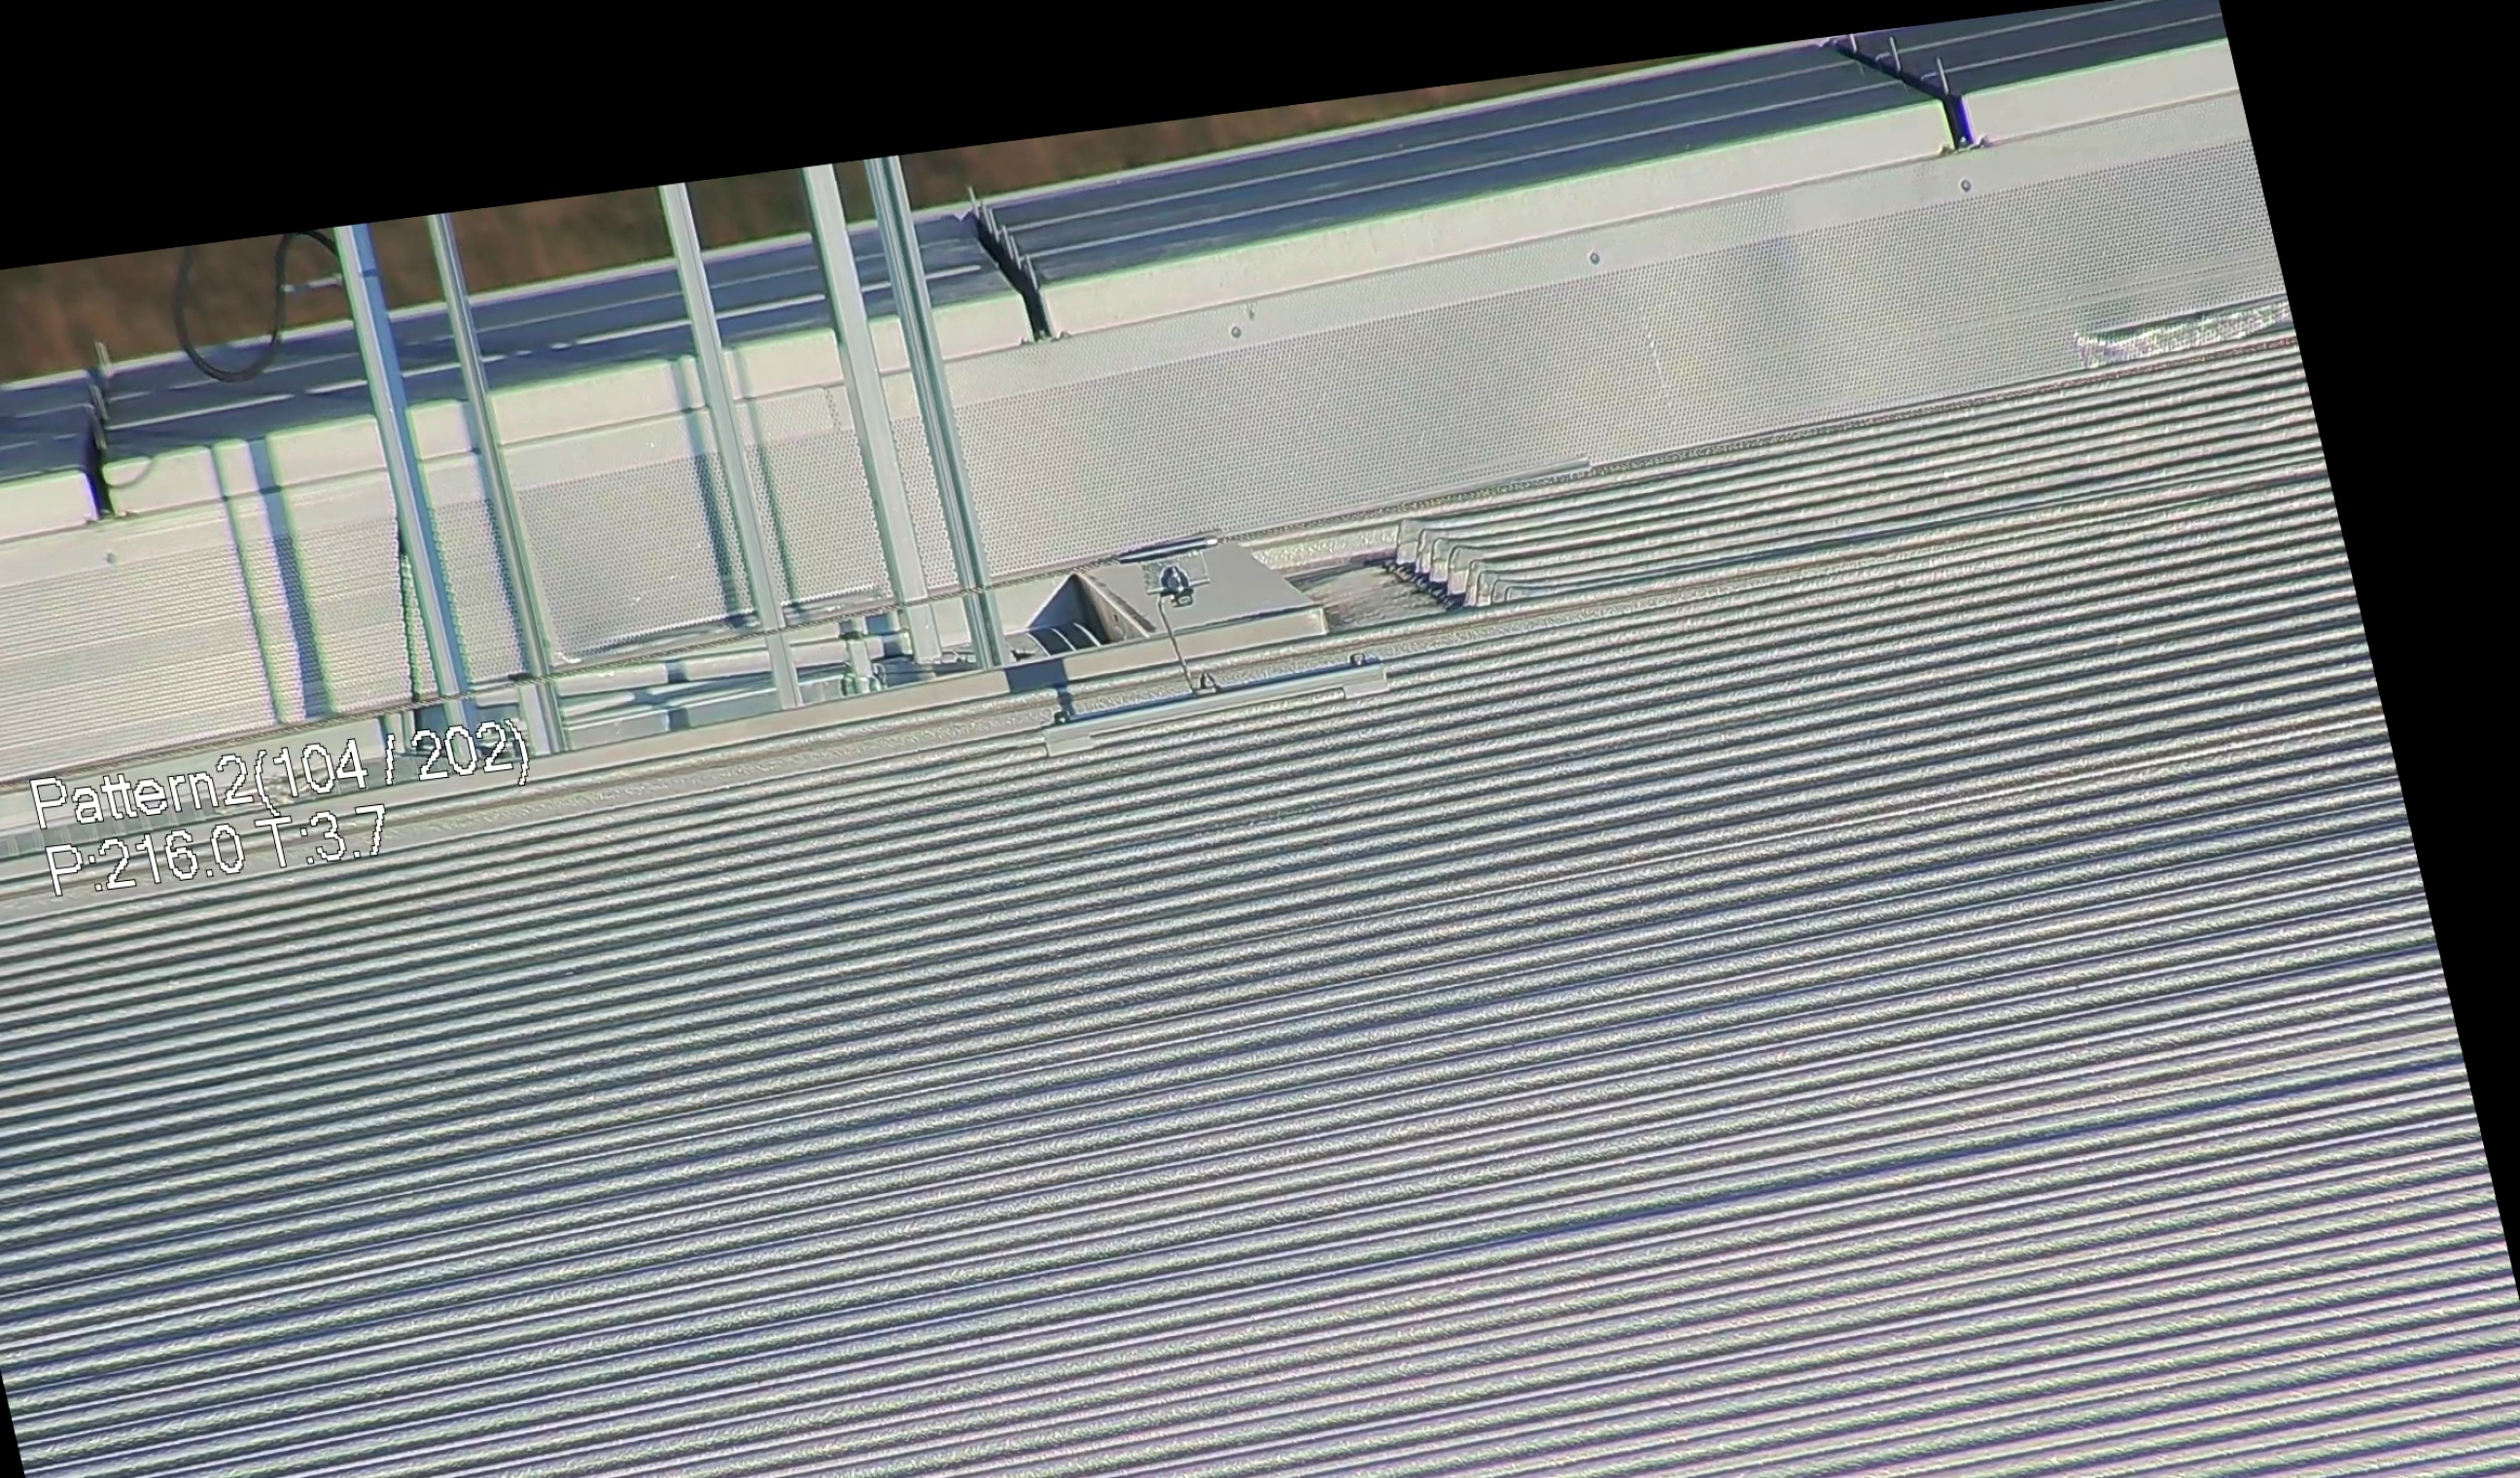Other: (936, 160, 1080, 355)
